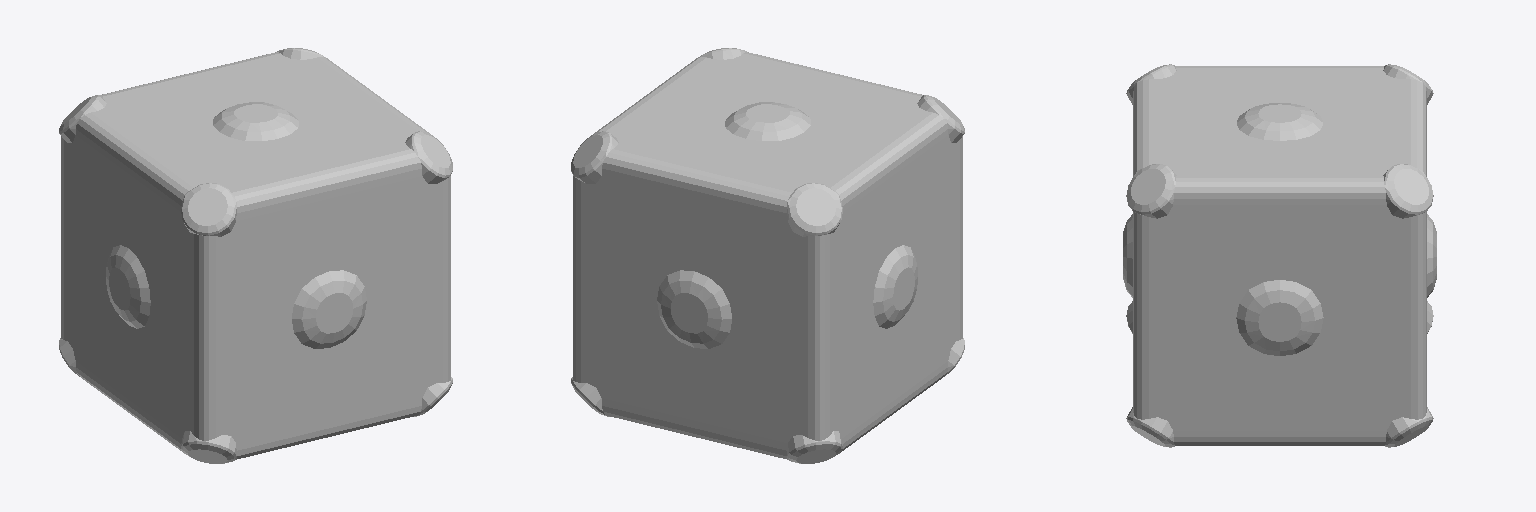
File: CubeBall.obj
3 views of the same model, side by side, from view 1: azimuth 30°, elevation 25°; view 2: azimuth 150°, elevation 25°; view 3: azimuth 270°, elevation 25° (orthographic).
Visible parts, largest first — view 1: Mesh0; view 2: Mesh0; view 3: Mesh0.
Part boxes in pixels (x1,y1,x2,y2): Mesh0: (59,48,452,463); Mesh0: (571,48,964,463); Mesh0: (1123,64,1436,447).
Bounding box in the file's own units: 165 × 165 × 165.